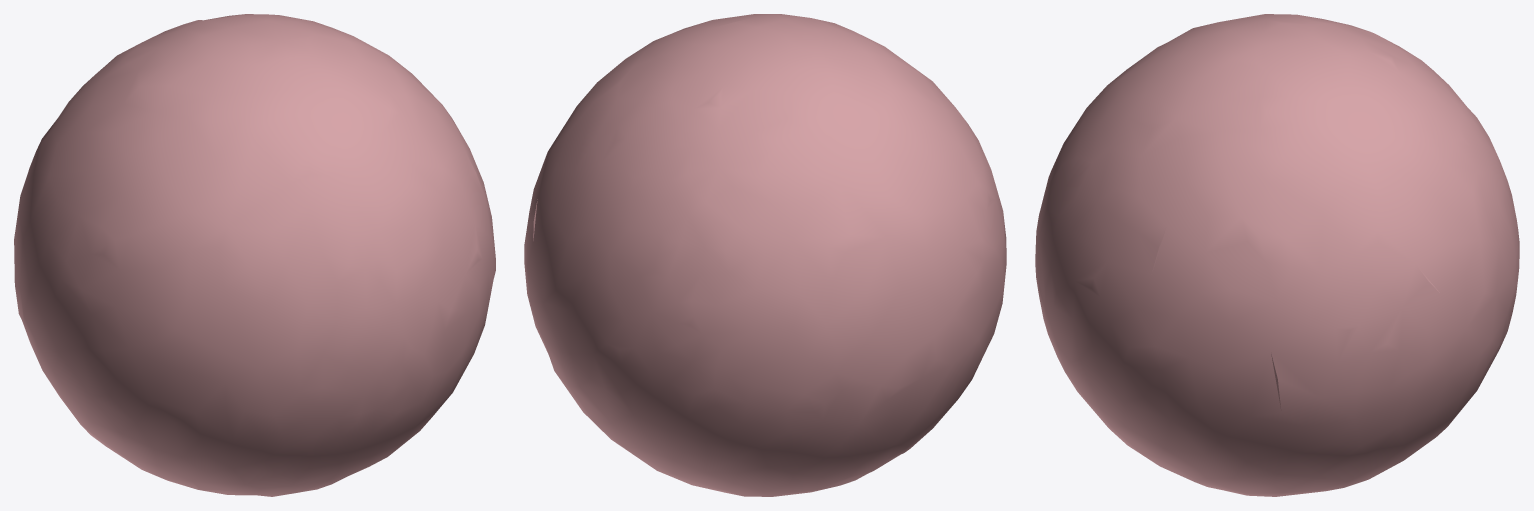
Rendered from fma276283_mm2153.glb.
3 views of the same model, side by side, from view 1: azimuth 30°, elevation 25°; view 2: azimuth 150°, elevation 25°; view 3: azimuth 270°, elevation 25° (orthographic).
Parts seen in each view (by area): view 1: FMA276283_MM2153; view 2: FMA276283_MM2153; view 3: FMA276283_MM2153.
Part boxes in pixels (box(x1,y1,x2,y2)): FMA276283_MM2153: box(14, 14, 495, 496); FMA276283_MM2153: box(524, 14, 1006, 496); FMA276283_MM2153: box(1035, 14, 1519, 496).
Size of the model in its own units: 0.00298 by 0.00298 by 0.00299.
